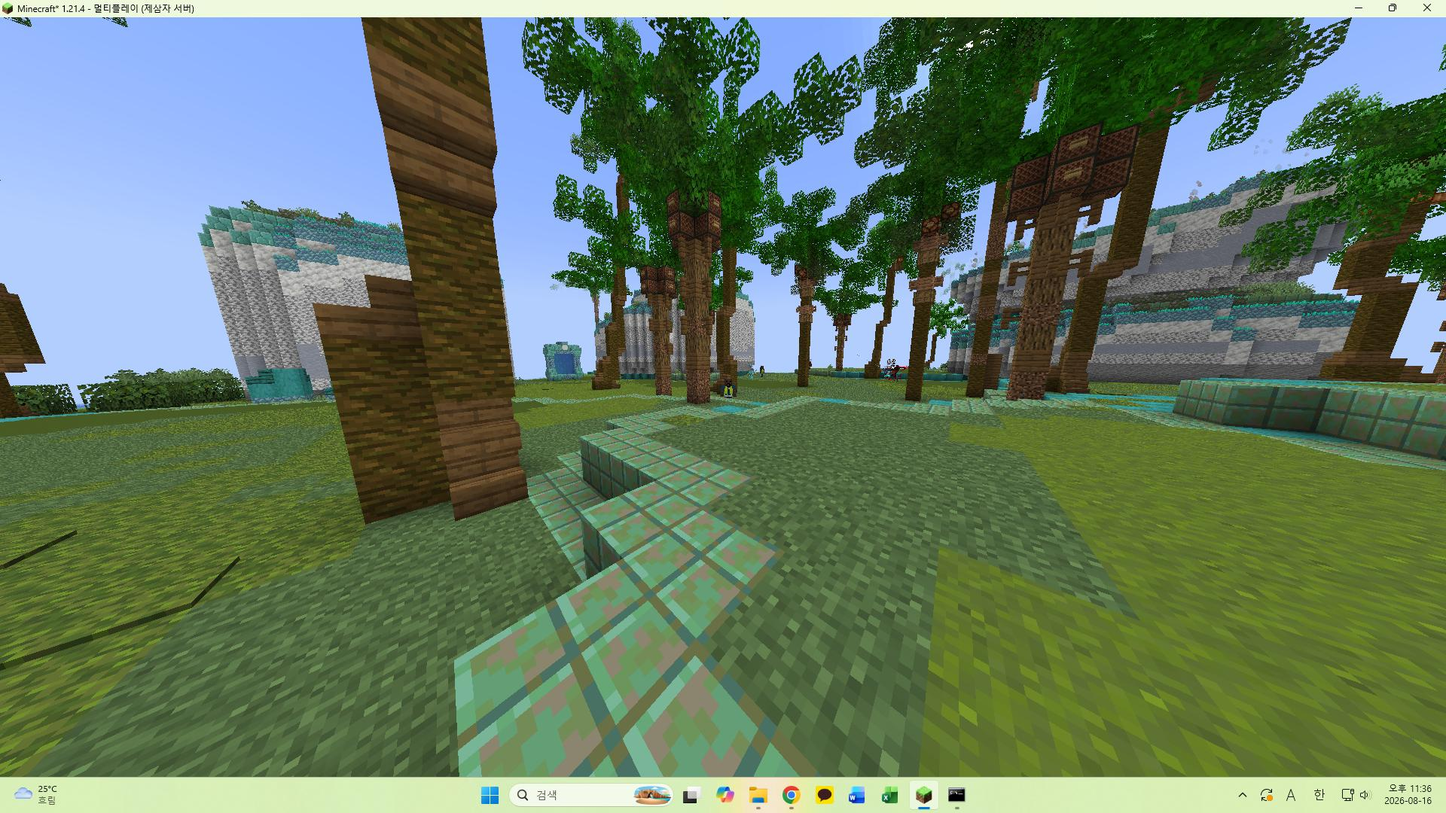Guardian: (722, 376, 734, 398)
